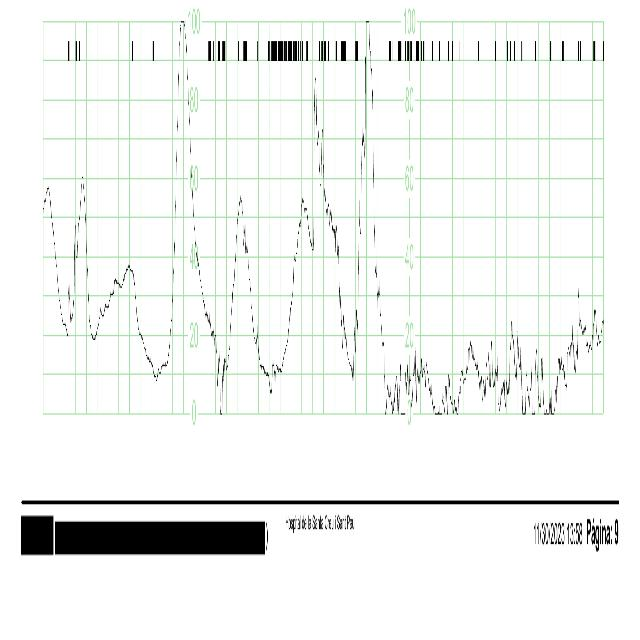contraction: (164, 21, 203, 361), (351, 20, 387, 378), (221, 193, 257, 390), (283, 197, 309, 357), (68, 176, 95, 324), (314, 79, 337, 251)
